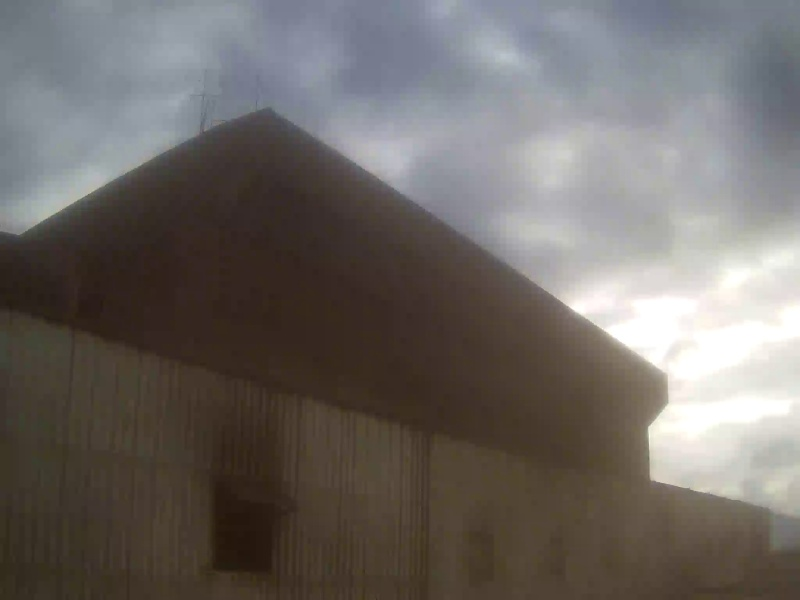bom: (247, 58, 734, 435), (4, 9, 258, 186)
